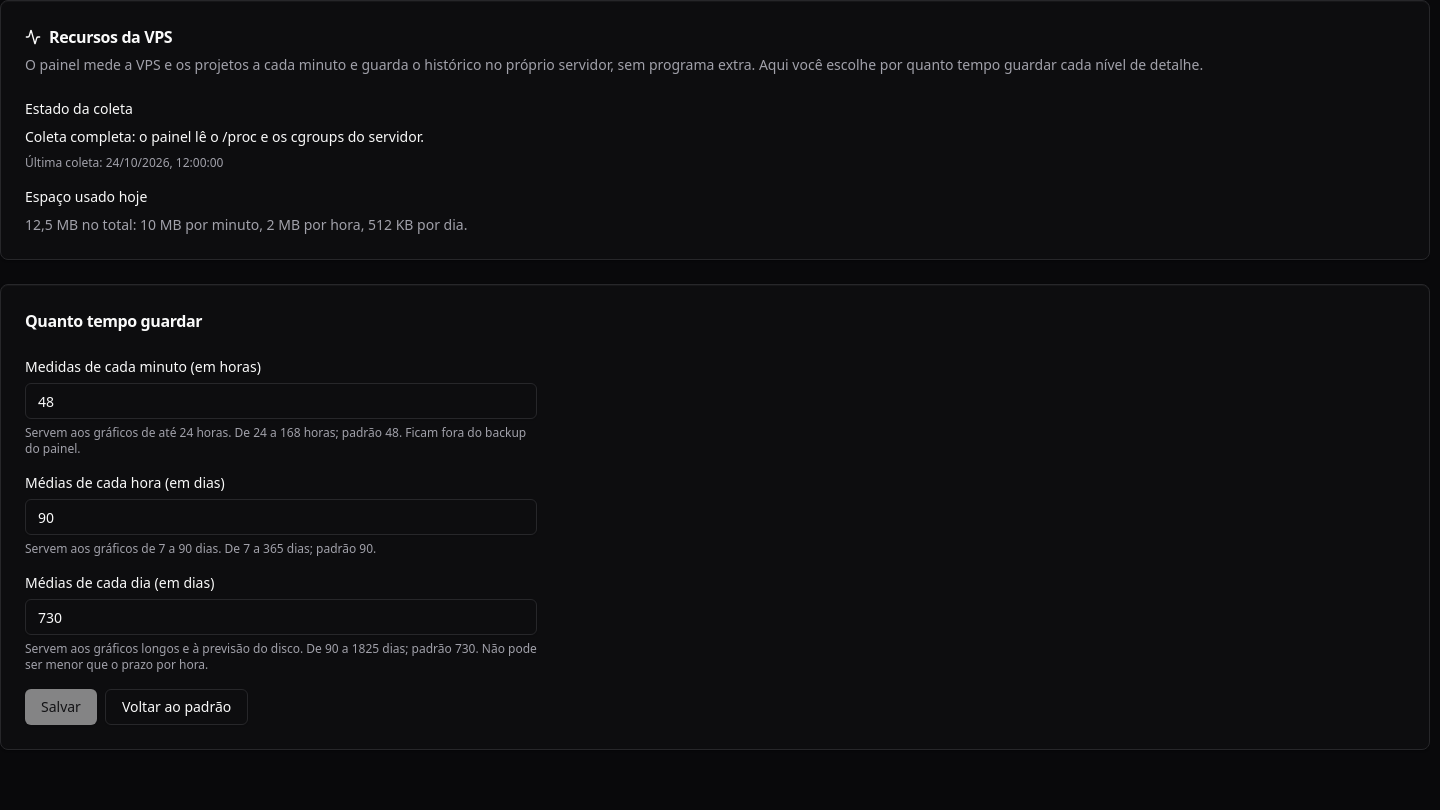
Test: salvar › aumentar um prazo salva direto (sem confirmação) e mostra o resultado do servidor
The width and height of the screenshot is (1440, 810).
Check: the text with test id "metrics-usage" is shown, box [25, 215, 467, 234]
Step 1. Replace the text in the number field labelled "Medidas de cada minuto (em horas)" with "72" → (281, 401), box [25, 383, 537, 419]
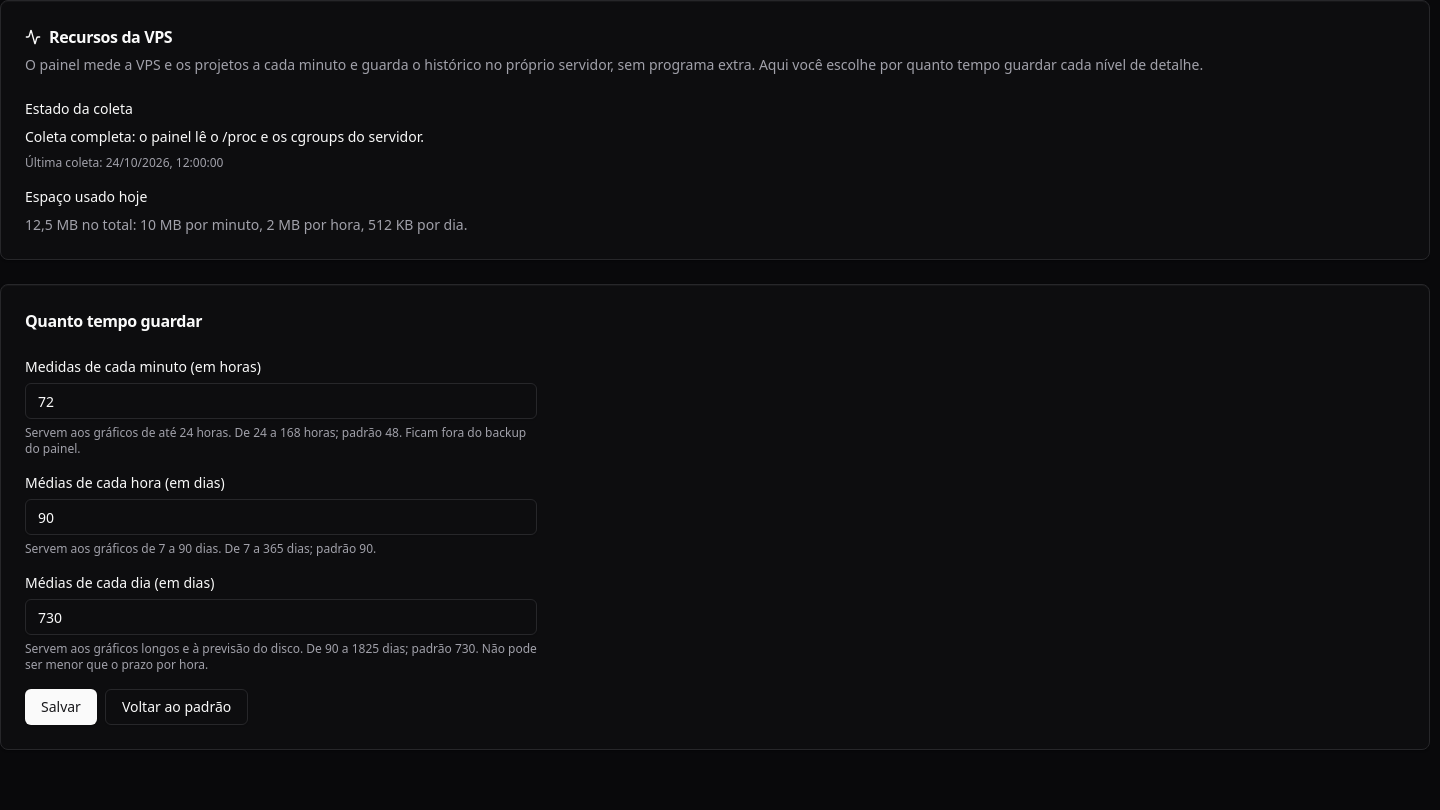
Step 2. Click the button "Salvar" → (61, 707), box [25, 689, 97, 725]
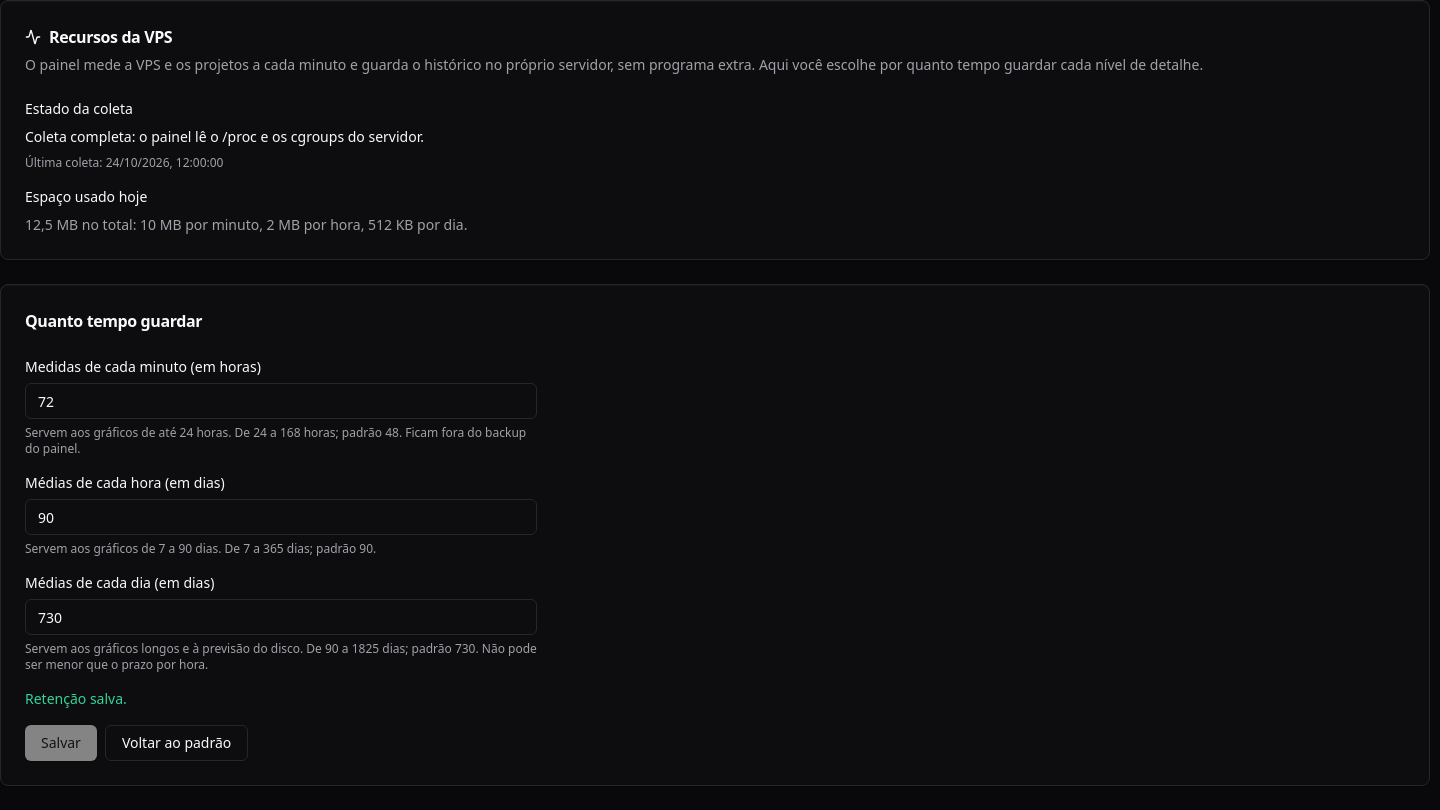
Check: the text "Retenção salva." is shown, box [25, 689, 127, 708]
Check: the button "Salvar" is disabled, box [25, 725, 97, 761]
